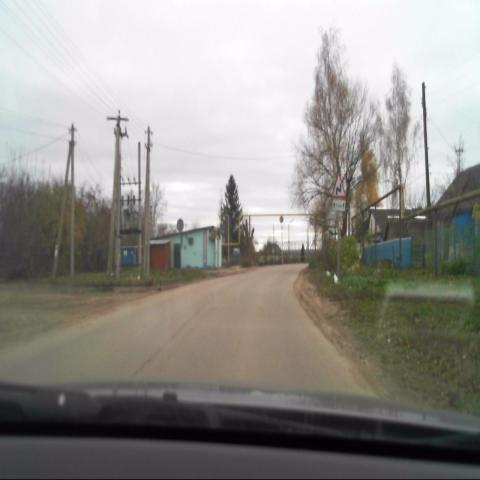1_12: (332, 176, 344, 198)
